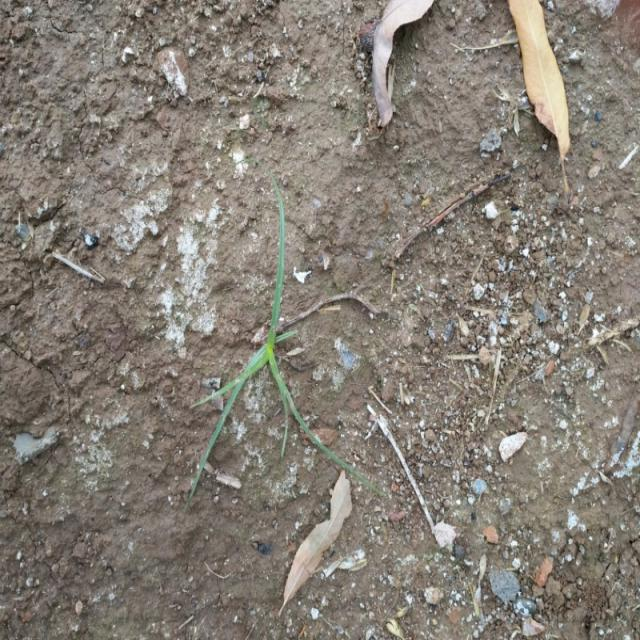sedge: (133, 244, 460, 550)
